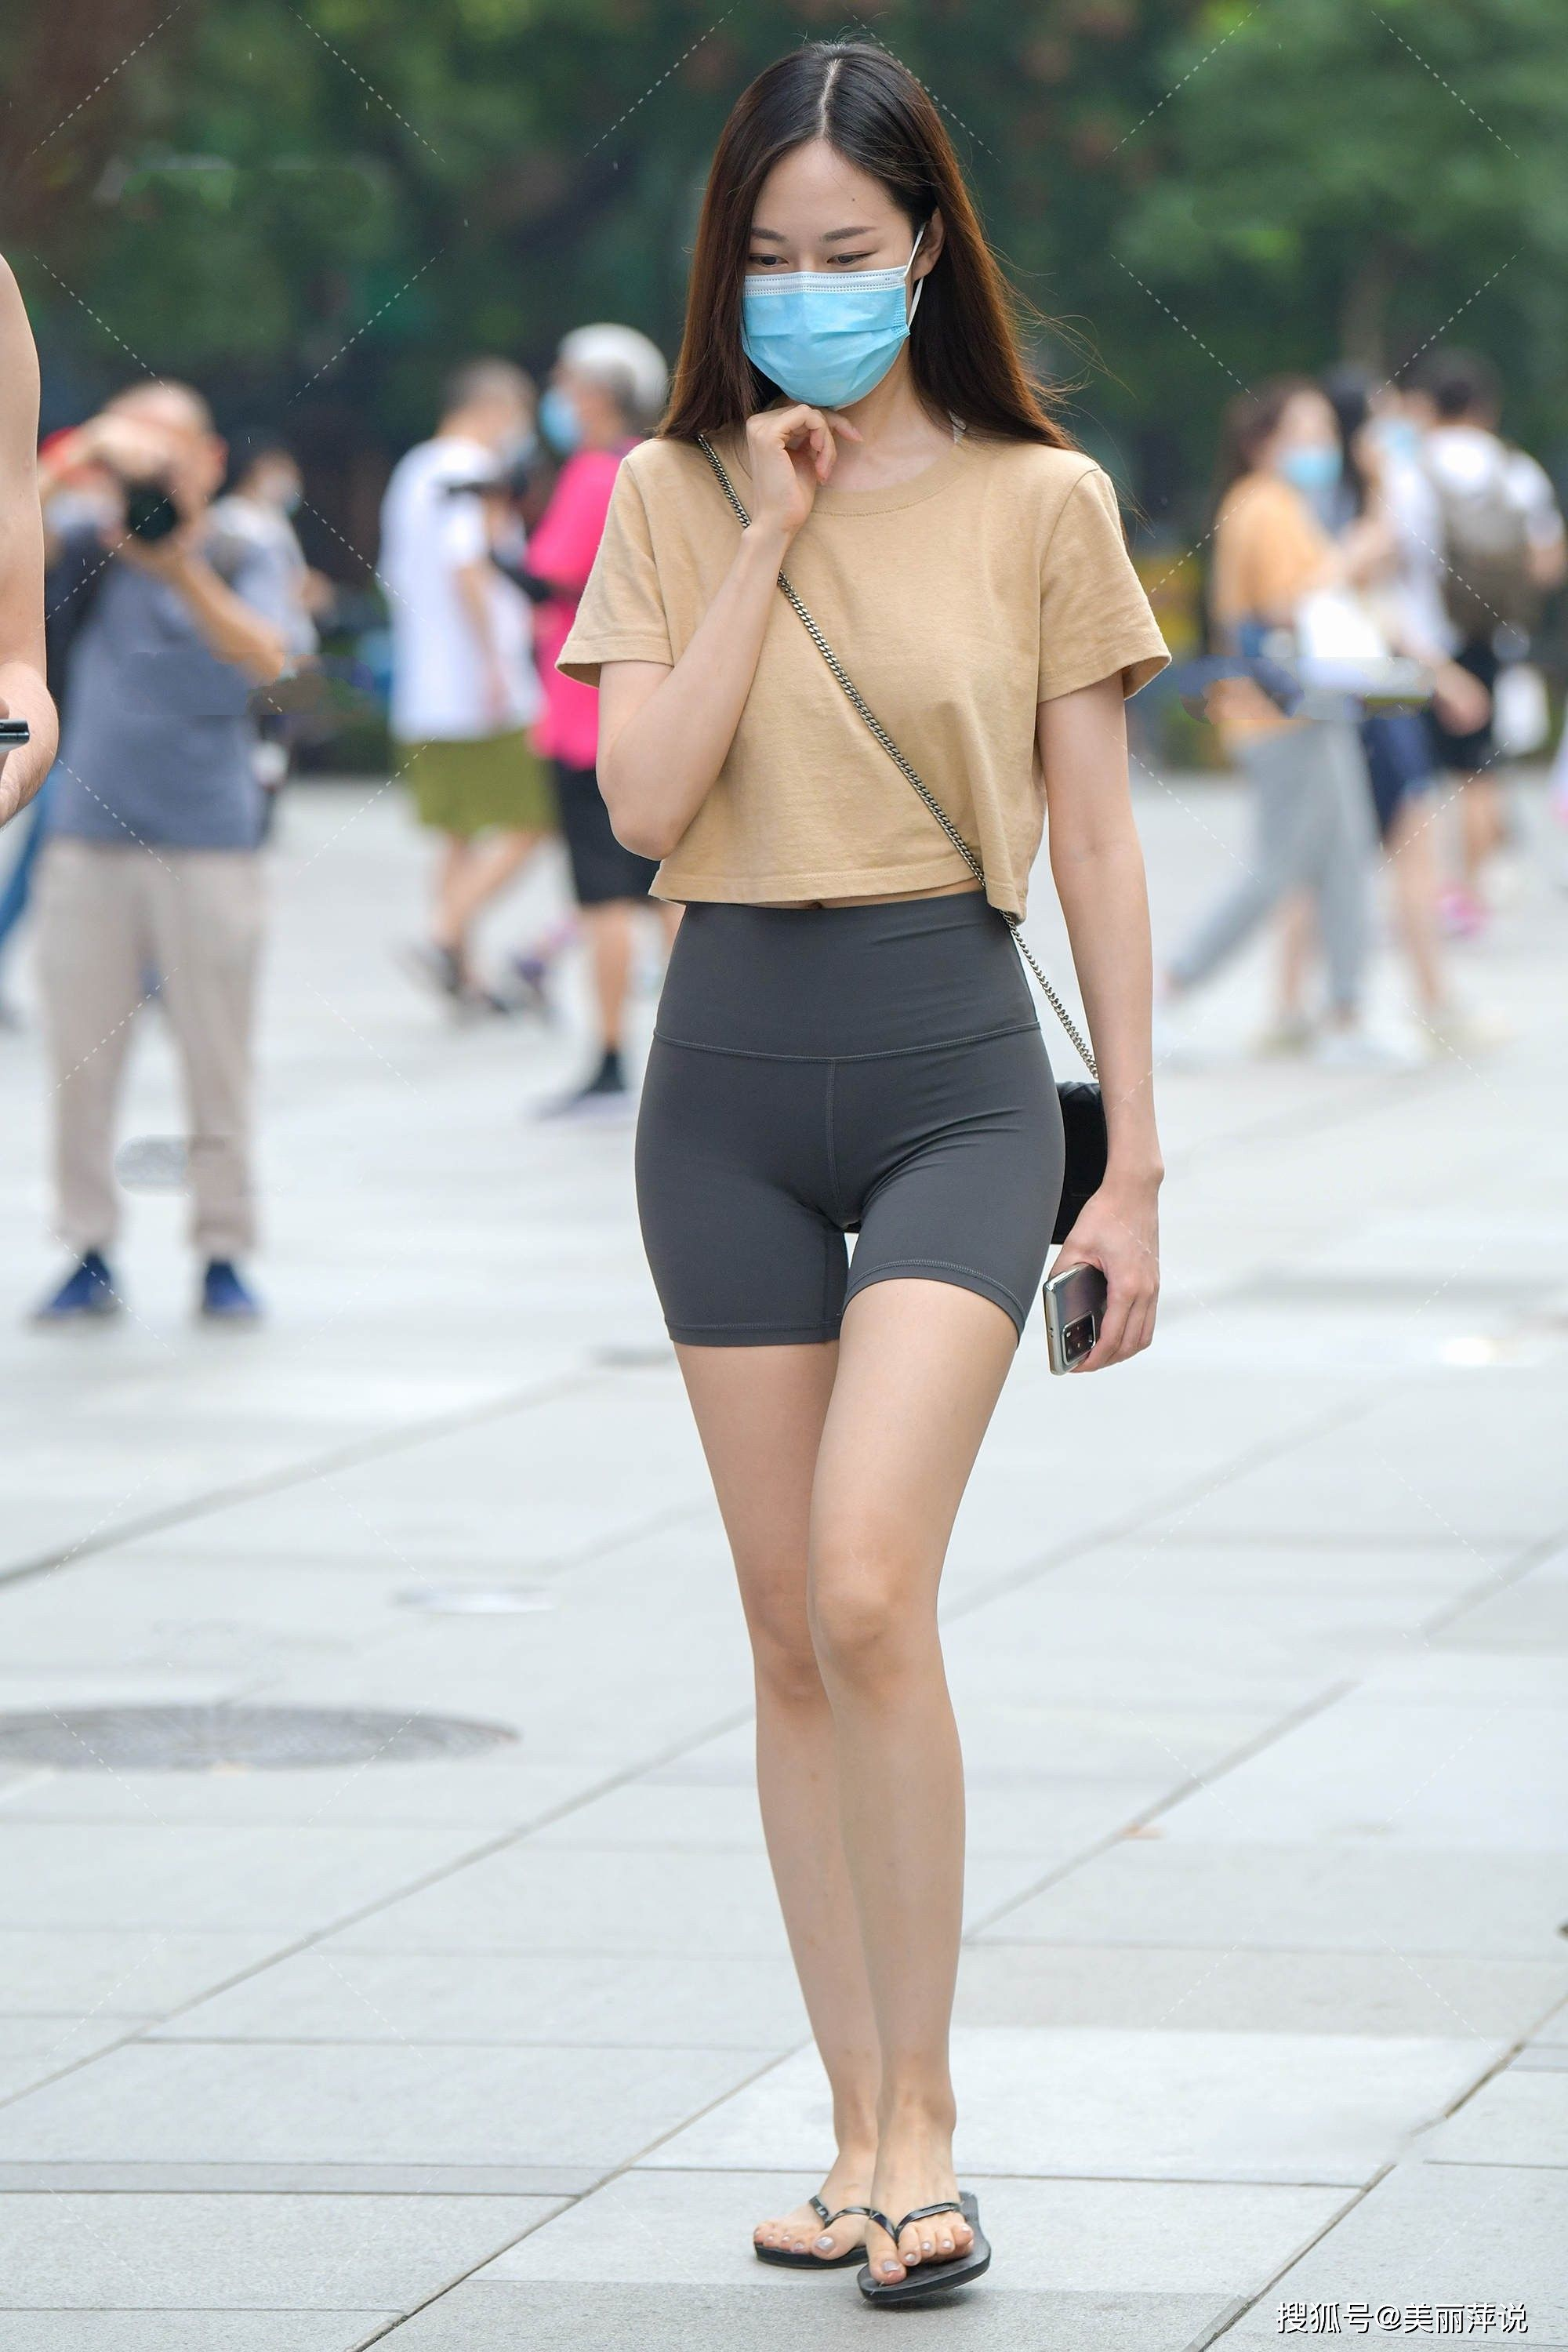person: (499, 40, 1243, 2352)
